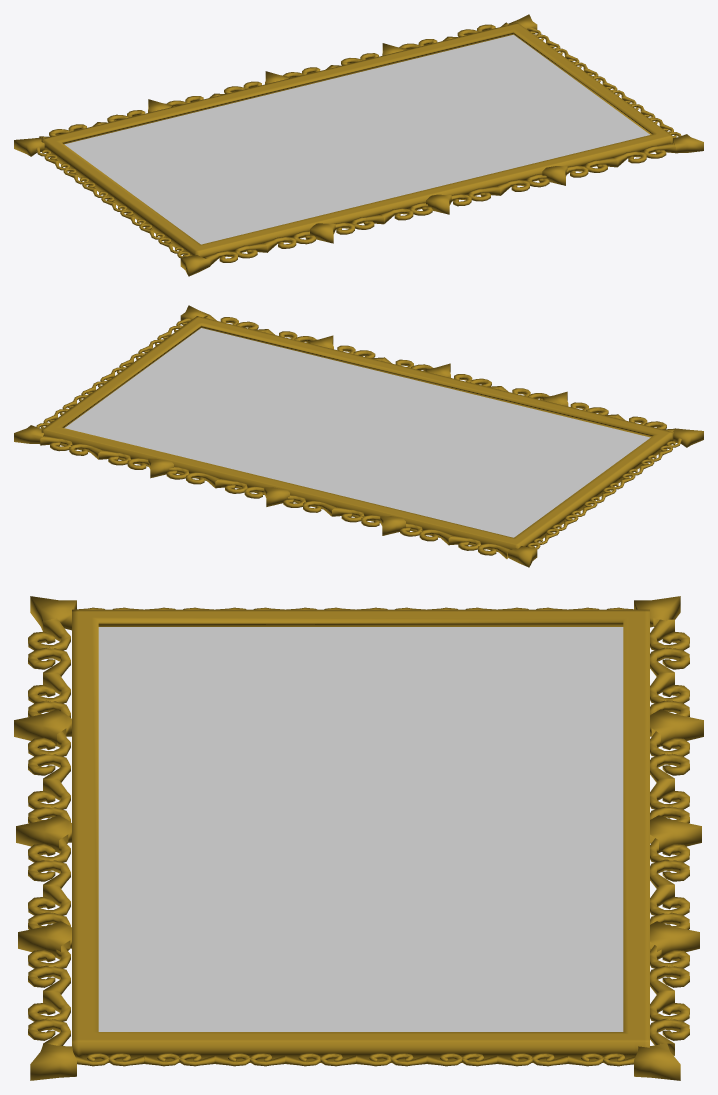
File: mirror.dae
3 renders of one model, top to bottom at view 1: azimuth 30°, elevation 25°; view 2: azimuth 150°, elevation 25°; view 3: azimuth 270°, elevation 25°, orthographic. The views are drawn at different scales.
Visible parts, largest first — view 1: miirror; view 2: miirror; view 3: miirror.
Boxes of the visible parts, bbox=[...] form: miirror: bbox=[14, 14, 703, 276]; miirror: bbox=[14, 305, 703, 567]; miirror: bbox=[14, 596, 703, 1080].
Size of the model in its own units: 6.88 by 4.28 by 0.1504.
